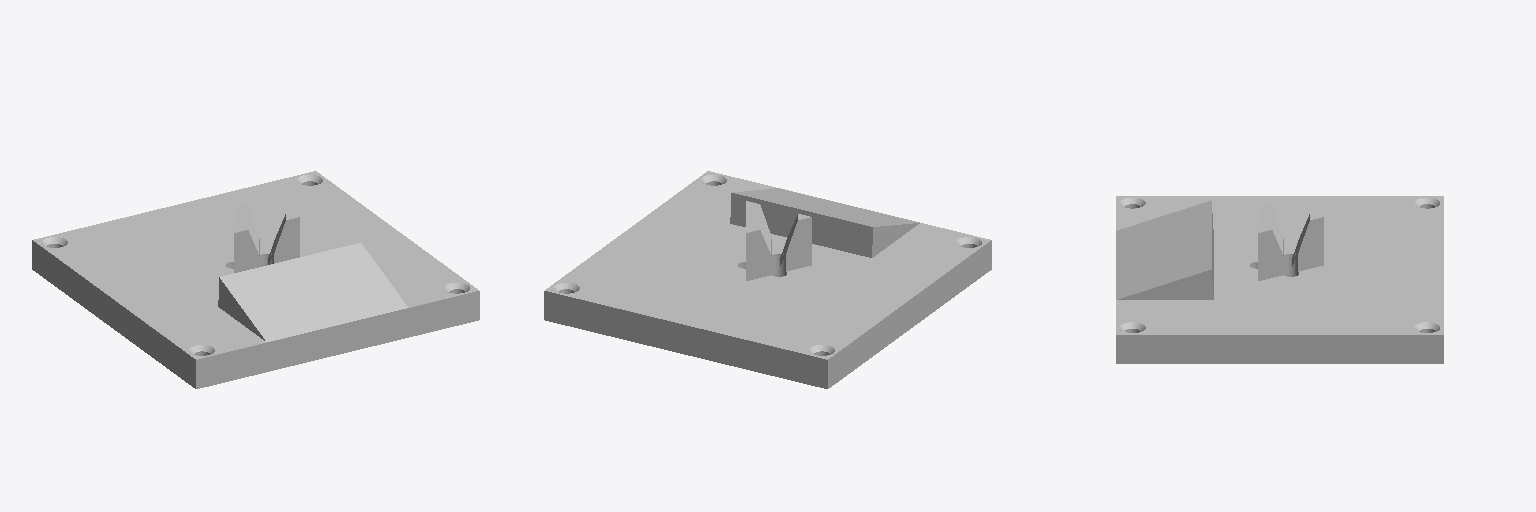
File: Tetra_base_Inverted_jig_and angle guides.obj
3 views of the same model, side by side, from view 1: azimuth 30°, elevation 25°; view 2: azimuth 150°, elevation 25°; view 3: azimuth 270°, elevation 25° (orthographic).
Parts seen in each view (by area): view 1: Base_Cube.002; view 2: Base_Cube.002; view 3: Base_Cube.002.
Part boxes in pixels (x1,y1,x2,y2): Base_Cube.002: (32,171,479,388); Base_Cube.002: (544,171,991,388); Base_Cube.002: (1116,196,1443,363).
Bounding box in the file's own units: 100 × 26.29 × 100.